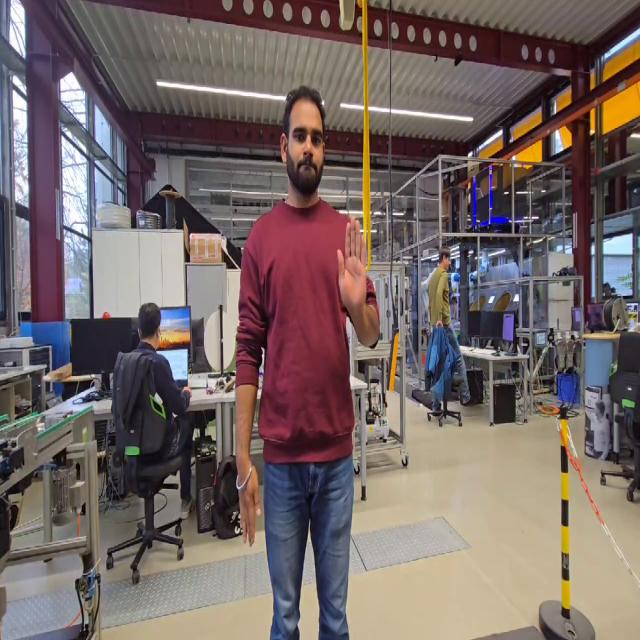open_palm: (334, 211, 372, 321)
